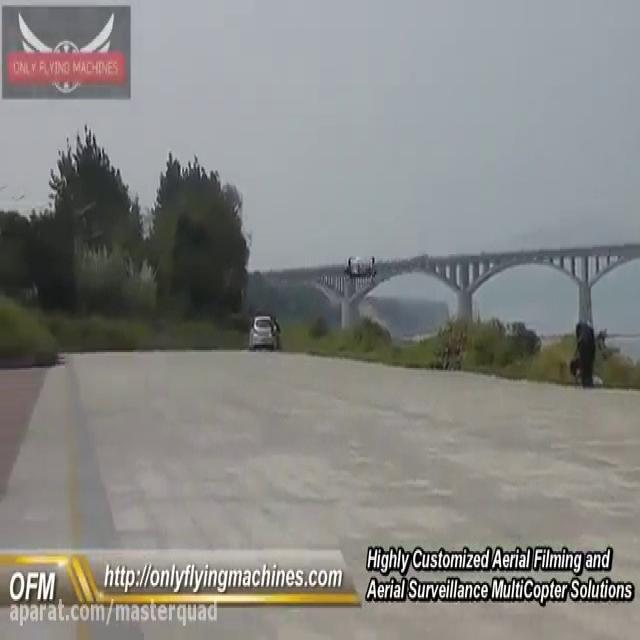drone: (342, 249, 378, 283)
